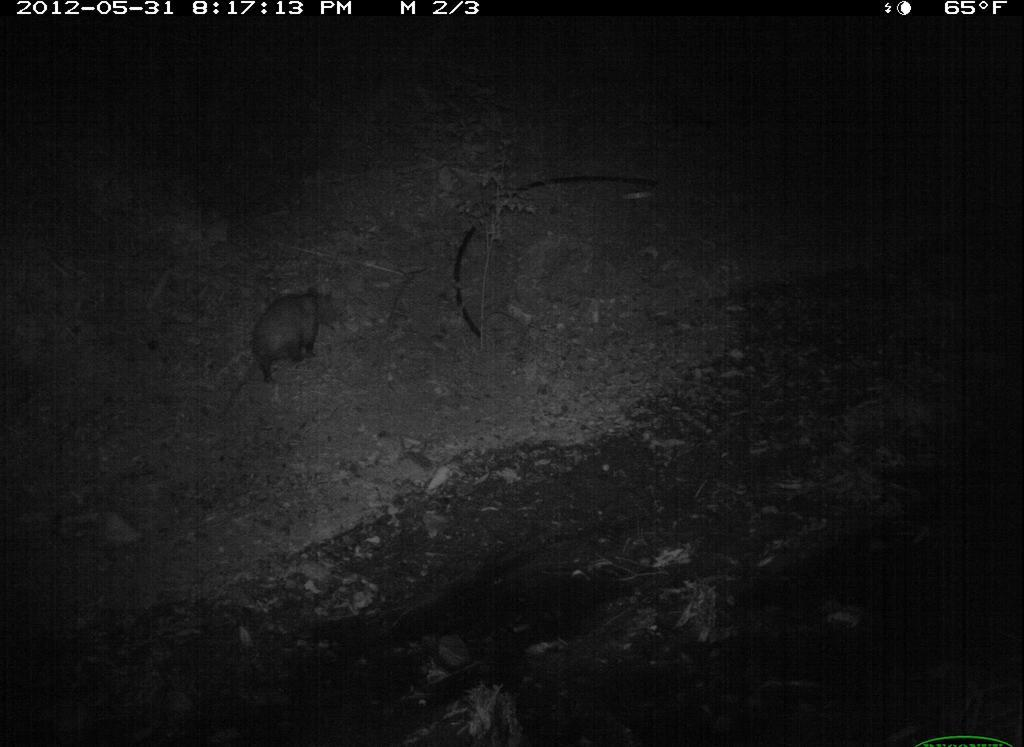opossum: (221, 286, 342, 419)
